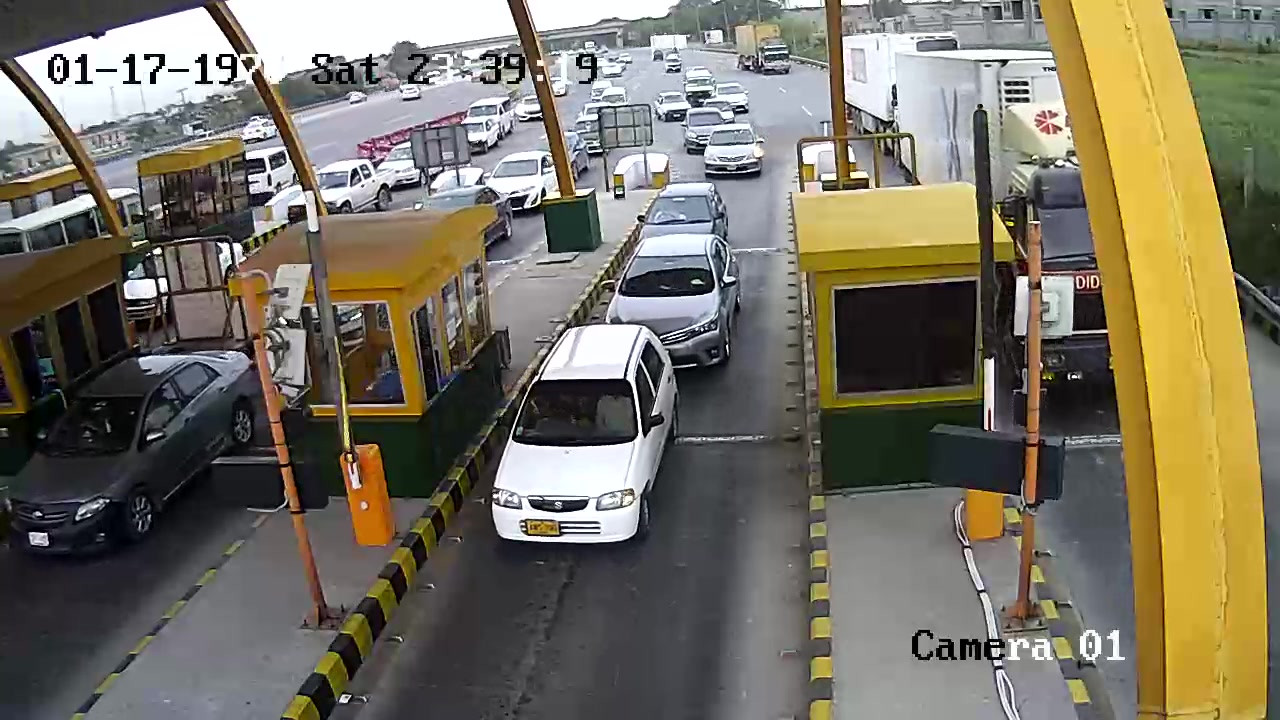F1: (483, 318, 691, 559)
